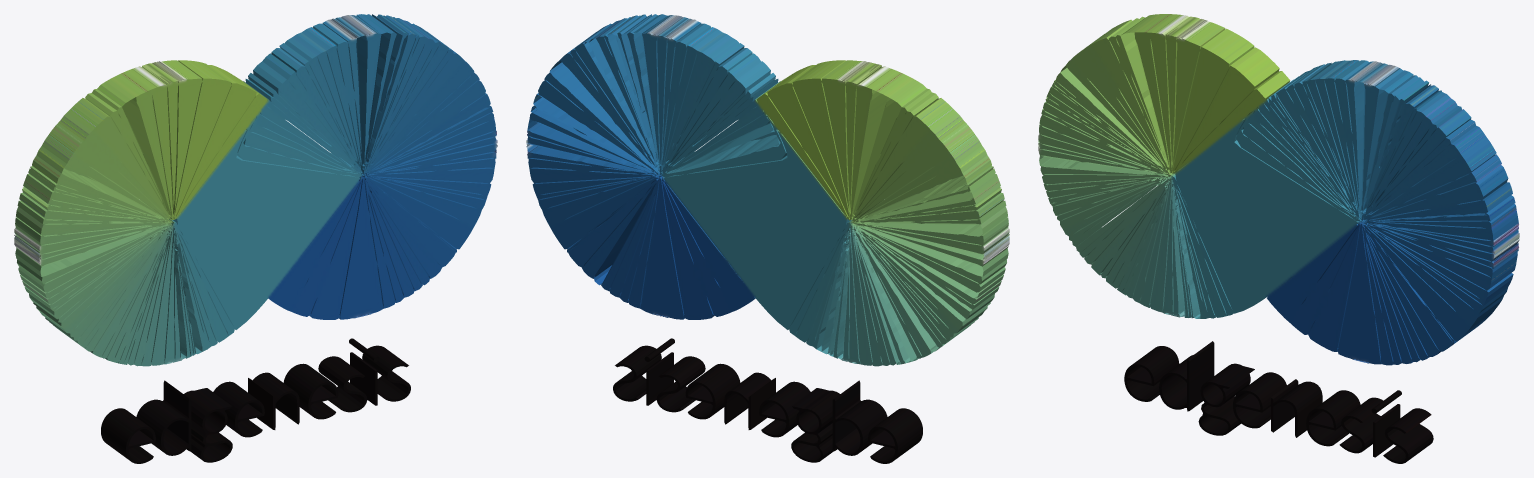
Rendered from edgenesis.glb.
3 renders of one model, left to right at view 1: azimuth 30°, elevation 25°; view 2: azimuth 150°, elevation 25°; view 3: azimuth 330°, elevation 25°, orthographic.
Parts seen in each view (by area): view 1: Curve; view 2: Curve; view 3: Curve.
Boxes of the visible parts, left/top/right/bottom form: Curve: left=14, top=14, right=497, bottom=463; Curve: left=526, top=14, right=1009, bottom=463; Curve: left=1038, top=14, right=1519, bottom=463.
Size of the model in its own units: 0.0526 by 0.0428 by 0.005.
1 material, 1 textured.
